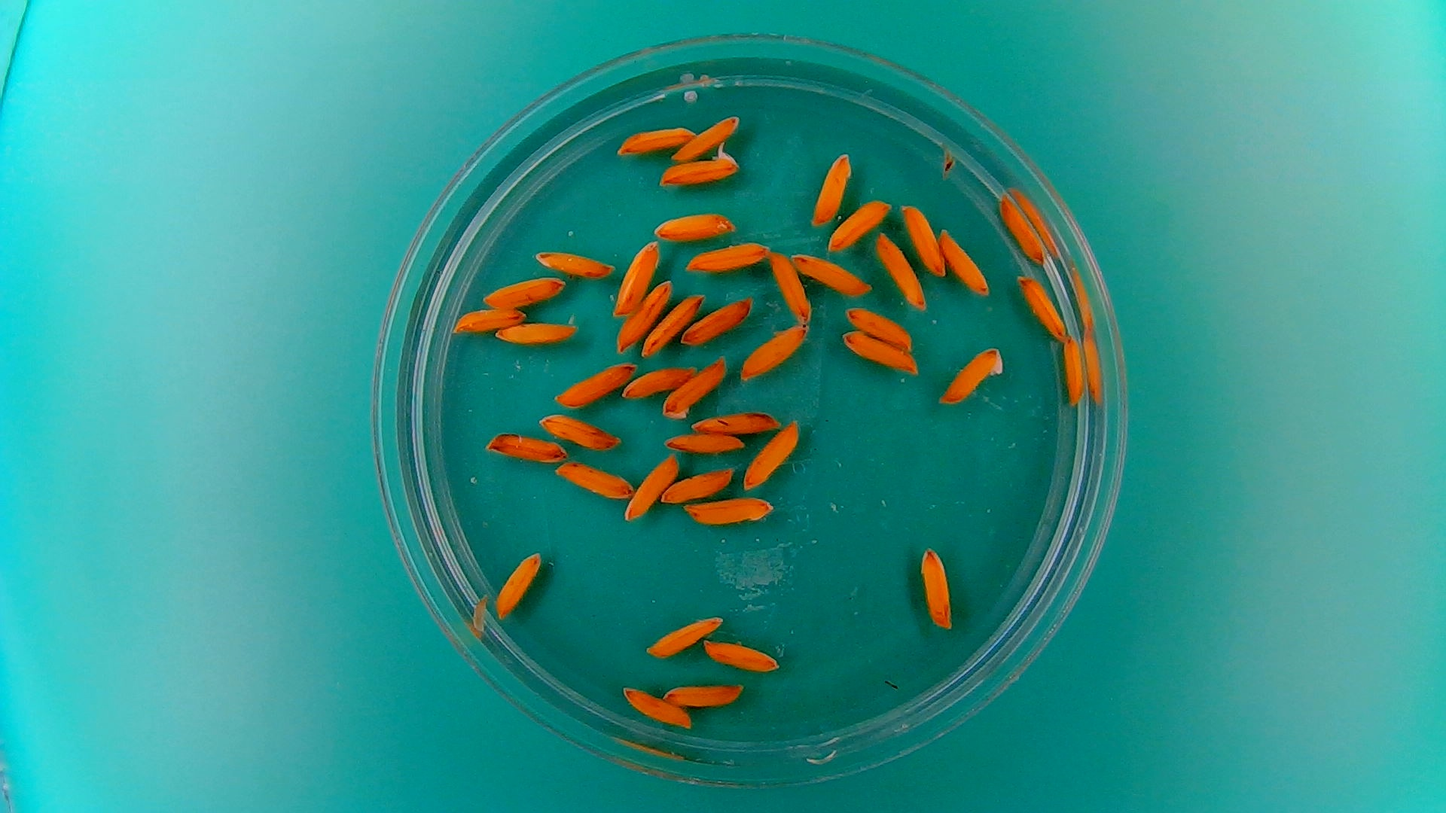no: (660, 352, 728, 422), (615, 277, 673, 355), (641, 289, 705, 357), (938, 343, 1007, 405), (742, 418, 801, 490), (739, 321, 810, 380), (874, 230, 926, 309), (624, 450, 679, 522), (552, 359, 636, 406), (680, 294, 755, 346), (612, 238, 661, 316), (996, 191, 1047, 265), (643, 612, 725, 658), (899, 200, 946, 279), (938, 225, 990, 296), (790, 250, 872, 295), (840, 328, 919, 374), (493, 549, 544, 620), (1015, 273, 1066, 341), (918, 540, 956, 631), (618, 683, 693, 729), (827, 198, 892, 251), (810, 148, 853, 227), (671, 112, 740, 161), (767, 249, 811, 324), (538, 412, 622, 451), (841, 305, 914, 349), (685, 493, 776, 528), (483, 427, 569, 464), (555, 460, 634, 500), (481, 272, 566, 309), (618, 361, 697, 400), (659, 464, 736, 504), (683, 239, 771, 273), (651, 209, 738, 242), (689, 406, 783, 436), (615, 122, 697, 155), (703, 639, 779, 674), (661, 678, 744, 710), (532, 248, 615, 279), (495, 317, 580, 346), (660, 428, 745, 455), (450, 305, 526, 334), (1062, 333, 1087, 407)
yes: (660, 136, 743, 187)
